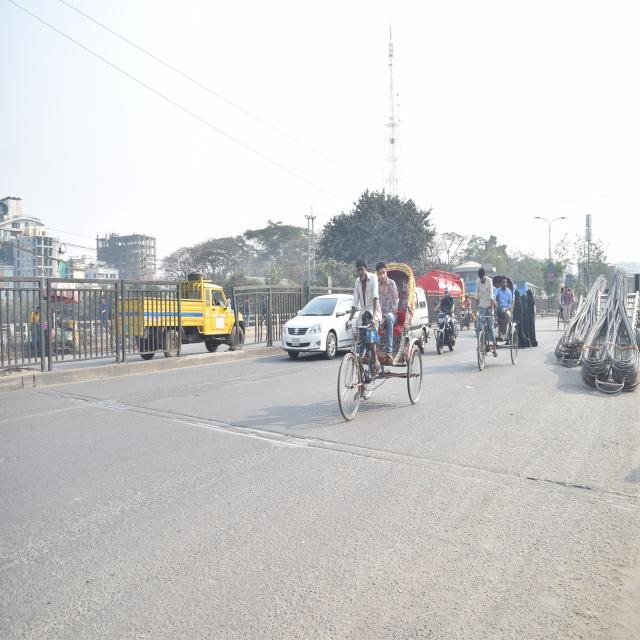car: (286, 284, 354, 359), (399, 276, 432, 350)
motorbike: (431, 295, 458, 355), (456, 292, 476, 335)
pickup-van: (120, 261, 252, 370)
